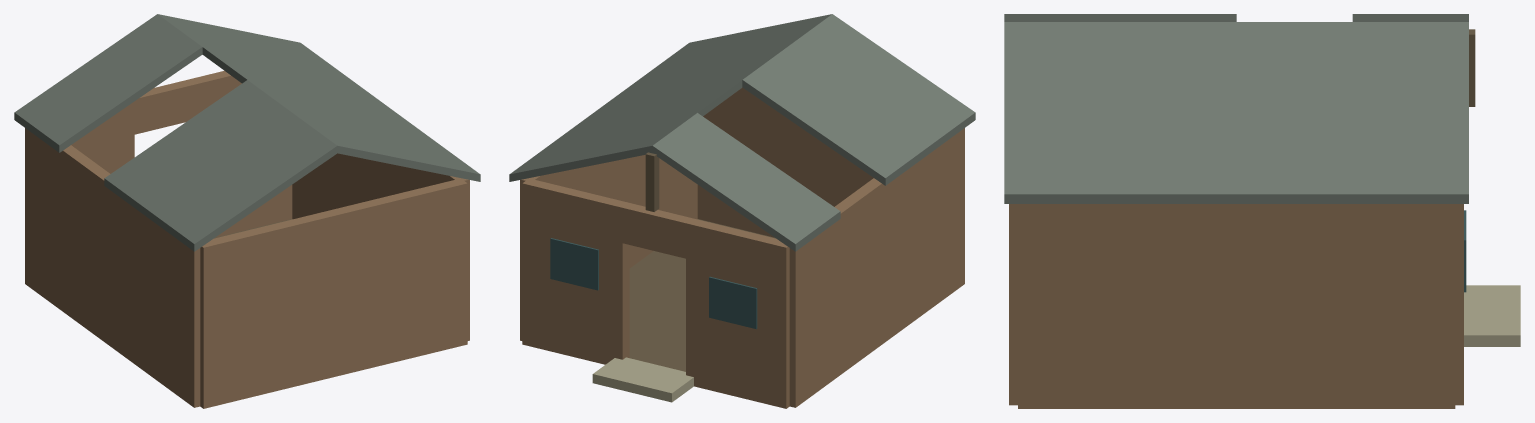
File: ua_forester_hut.obj
3 views of the same model, side by side, from view 1: azimuth 30°, elevation 25°; view 2: azimuth 150°, elevation 25°; view 3: azimuth 270°, elevation 25° (orthographic). The views are drawn at different scales.
Parts seen in each view (by area): view 1: ua_forester_hut; view 2: ua_forester_hut; view 3: ua_forester_hut.
Part boxes in pixels (left/top/right/bottom): ua_forester_hut: left=14, top=14, right=480, bottom=408; ua_forester_hut: left=509, top=14, right=975, bottom=408; ua_forester_hut: left=1004, top=14, right=1520, bottom=408.
Size of the model in its own units: 3.9 by 3.03 by 4.72.
